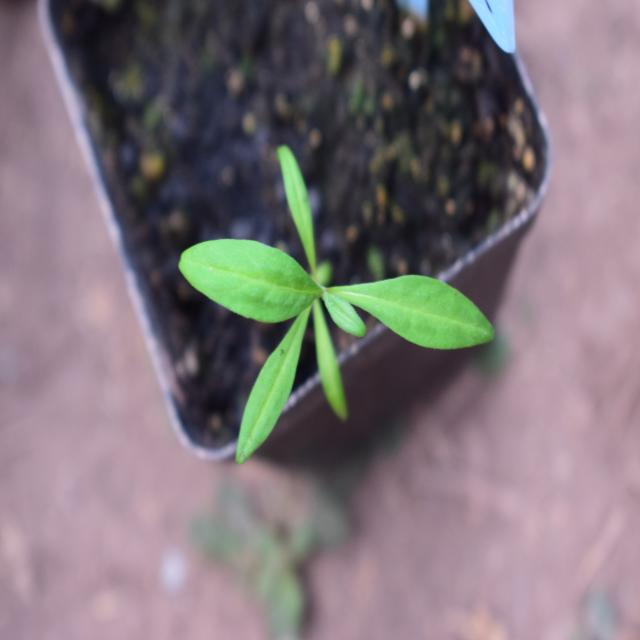white_smart_weed: (163, 168, 532, 468)
